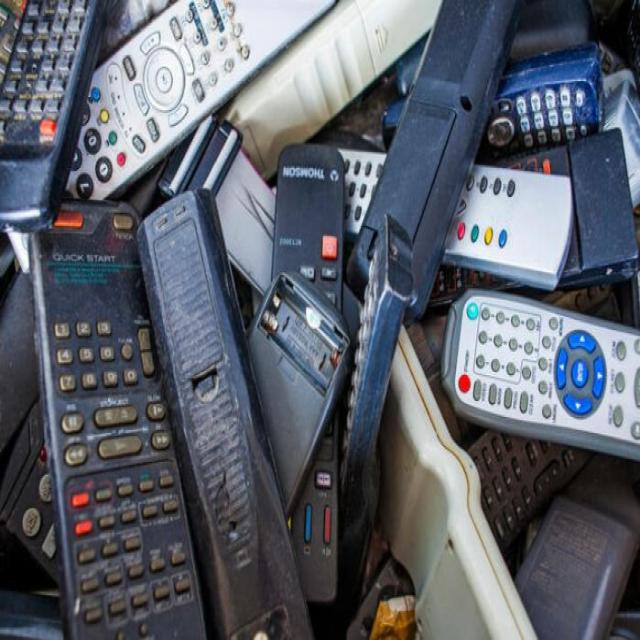electronic: (429, 260, 640, 487), (268, 132, 359, 622), (380, 5, 510, 308), (6, 4, 88, 217)
